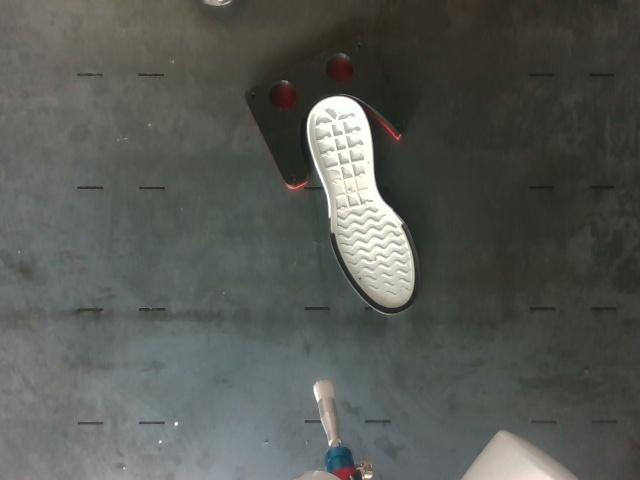shoes: (308, 97, 419, 314)
